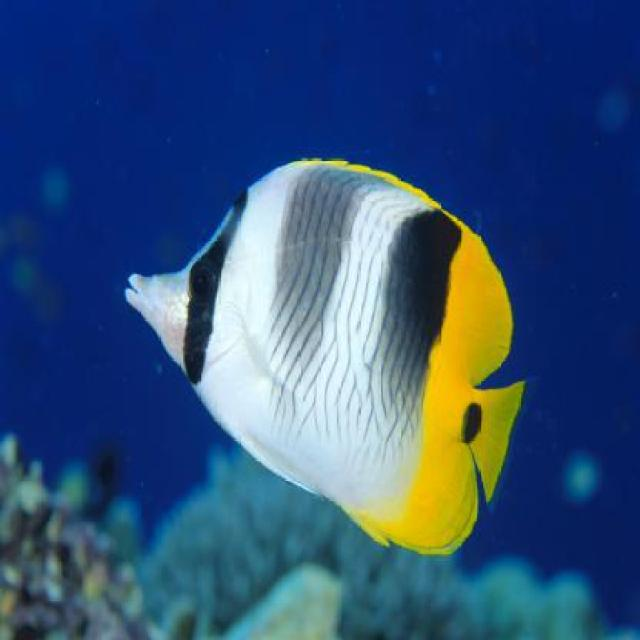ButterflyFish: (121, 160, 525, 550)
